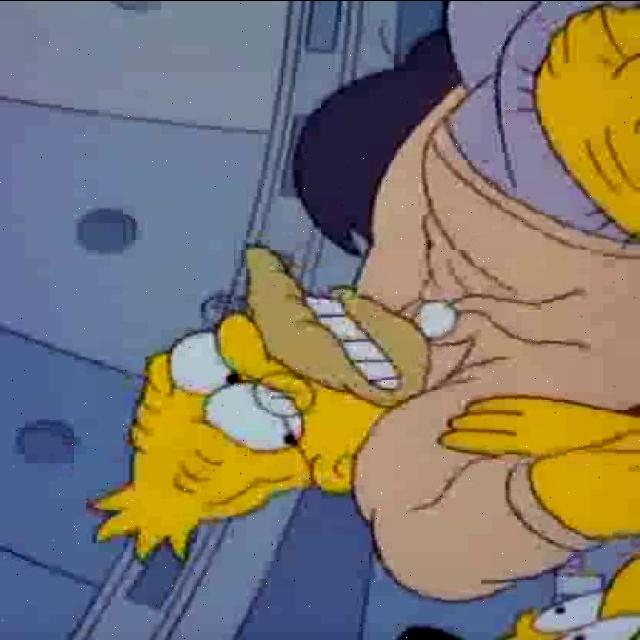Abraham Grampa Simpson: (87, 242, 439, 560)
